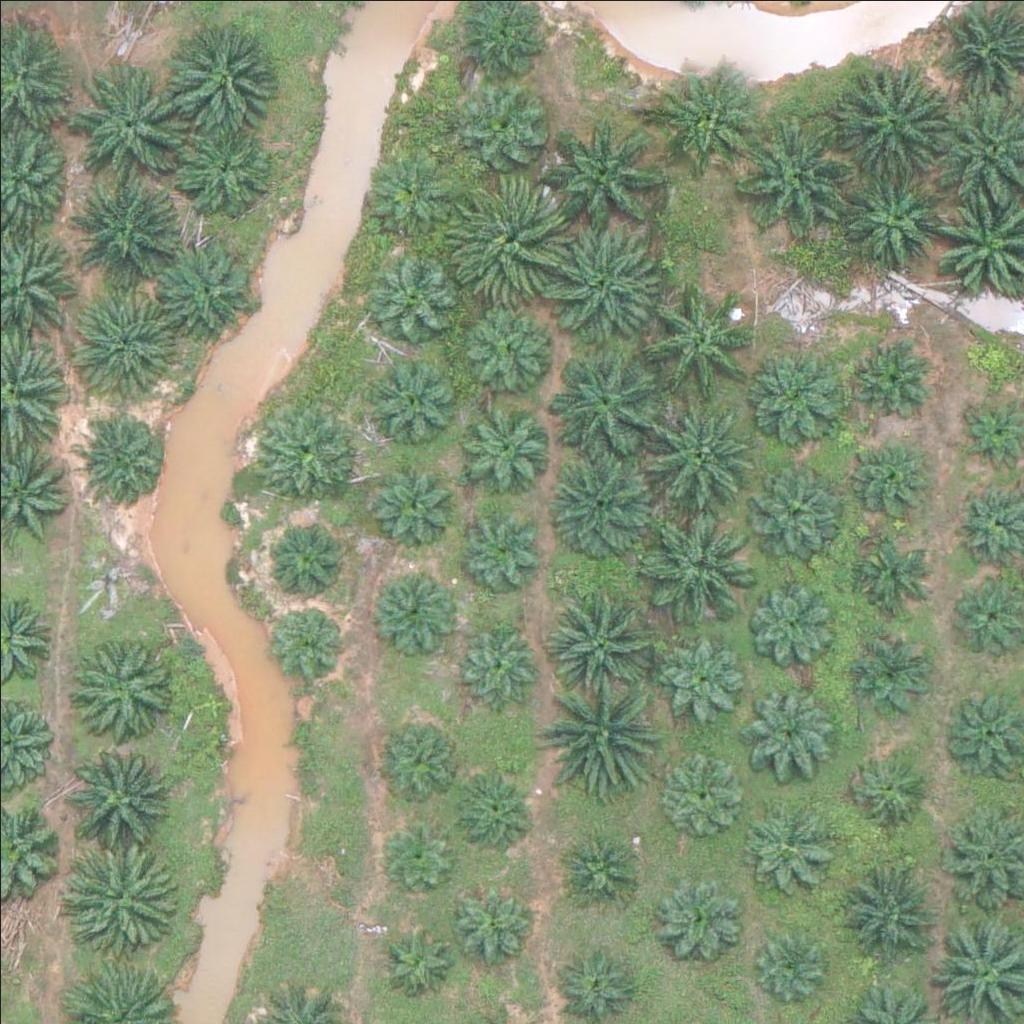Kelapa_Sawit: (839, 63, 952, 177), (67, 285, 180, 399), (550, 448, 663, 562), (168, 15, 281, 128), (65, 844, 178, 957), (451, 185, 564, 298), (543, 672, 656, 785), (546, 351, 659, 464), (838, 847, 951, 960), (69, 177, 181, 291), (59, 734, 171, 848), (540, 223, 652, 337), (77, 67, 189, 180), (551, 122, 663, 235), (740, 122, 852, 235), (546, 579, 658, 692), (639, 285, 751, 398), (639, 394, 751, 507), (643, 506, 755, 619), (174, 117, 274, 218), (68, 638, 168, 739), (255, 405, 355, 506), (363, 344, 463, 445), (746, 451, 846, 552), (845, 170, 945, 271), (155, 237, 255, 338), (656, 62, 756, 162), (453, 299, 553, 399), (449, 395, 549, 495), (747, 346, 847, 446), (448, 880, 536, 969), (461, 88, 549, 176), (562, 821, 650, 909), (378, 714, 466, 802), (364, 153, 452, 241), (455, 504, 543, 592), (746, 678, 834, 766), (746, 577, 834, 665), (847, 329, 935, 417), (845, 746, 933, 834), (656, 745, 744, 833), (80, 417, 167, 505), (450, 766, 537, 854), (457, 618, 544, 706), (368, 561, 455, 649), (261, 515, 348, 603), (367, 245, 454, 333), (372, 466, 459, 554), (850, 439, 937, 527), (842, 536, 929, 624), (850, 633, 937, 721), (655, 874, 742, 962), (658, 632, 745, 720), (744, 801, 831, 889), (752, 923, 827, 999), (379, 813, 454, 889), (270, 600, 345, 676), (376, 919, 451, 994)
